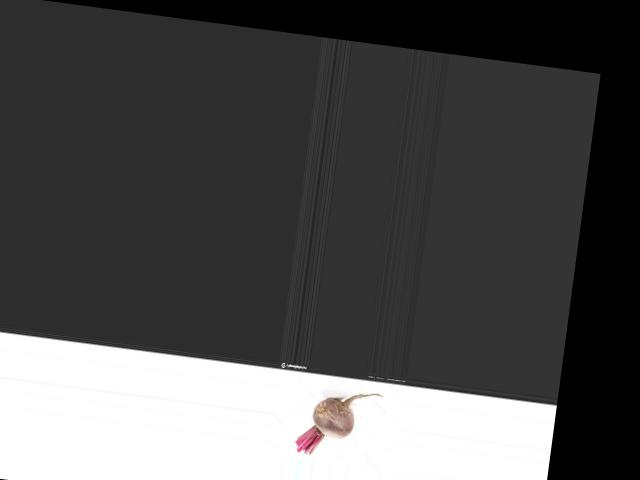beet: (295, 383, 383, 462)
